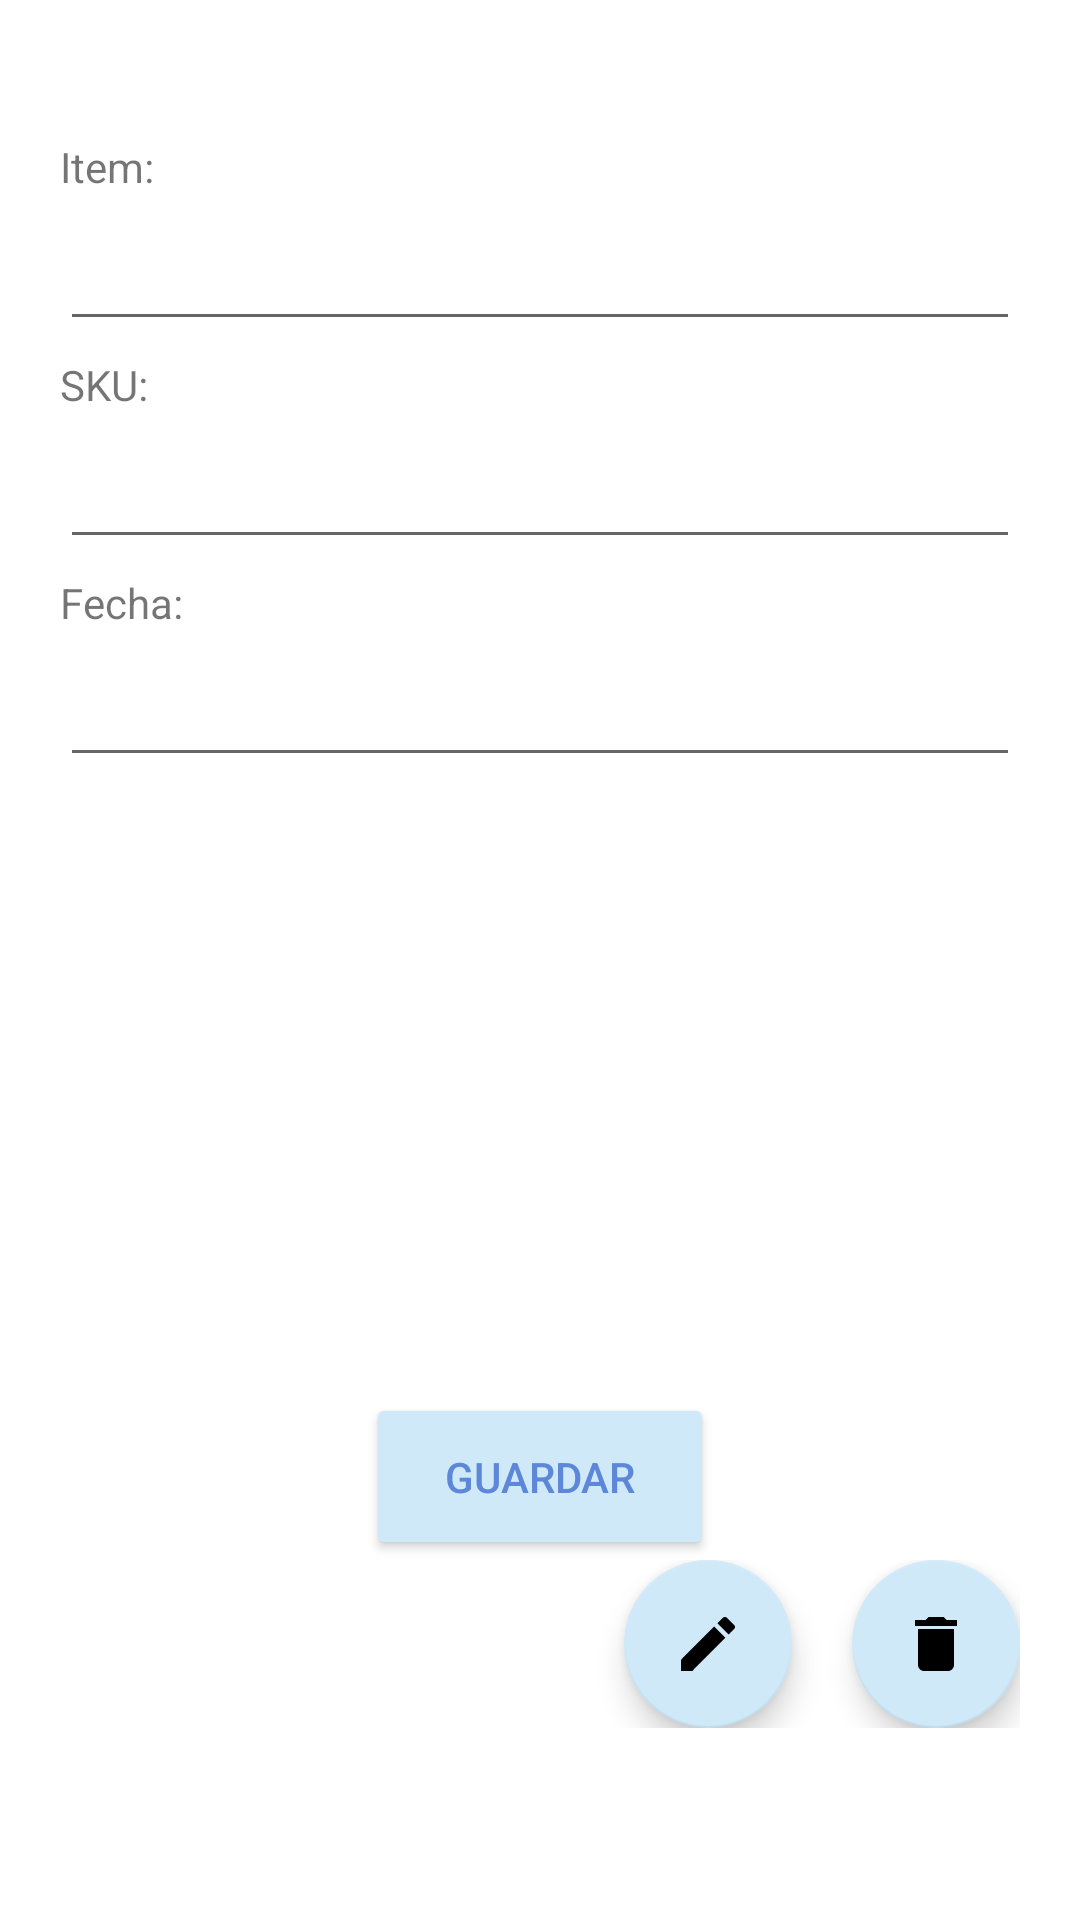

Named icons in this screenshot (1080 × 1920) and their bounding boxes, (x1, y1, x2, y2):
delete: (852, 1560, 1020, 1728)
edit: (624, 1560, 792, 1728)
